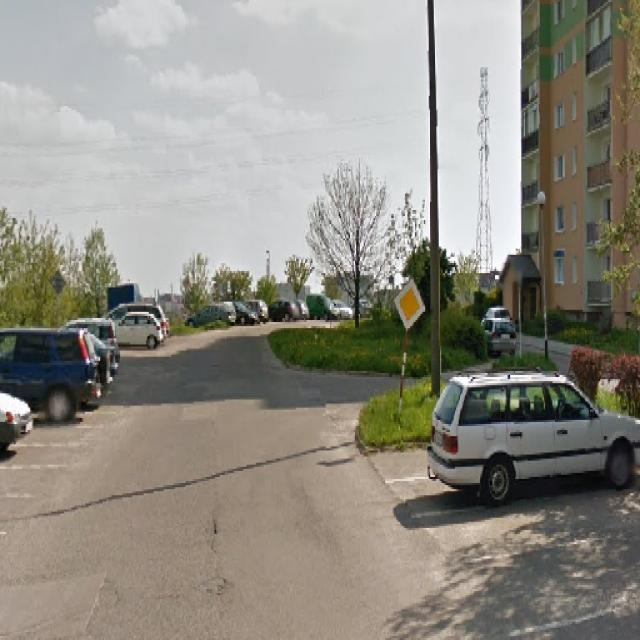Droga z pierwszenstwem: (396, 275, 425, 330)
